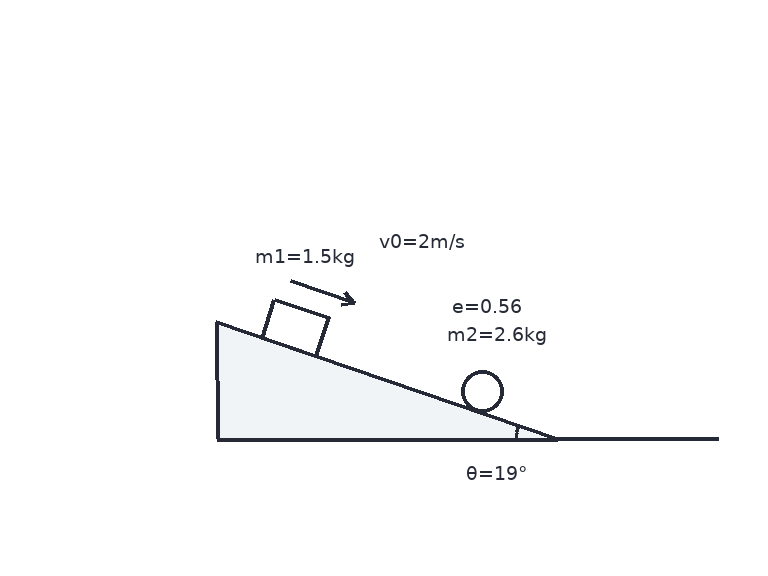ball: (459, 368, 505, 414)
block: (260, 297, 330, 358)
ramp: (215, 320, 558, 441)
